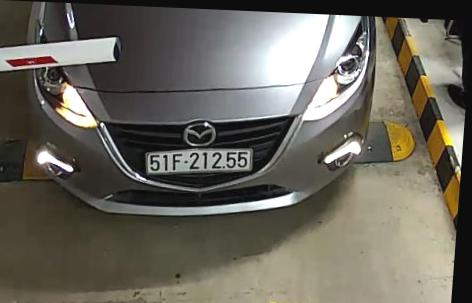License_Plate: (137, 143, 254, 183)
